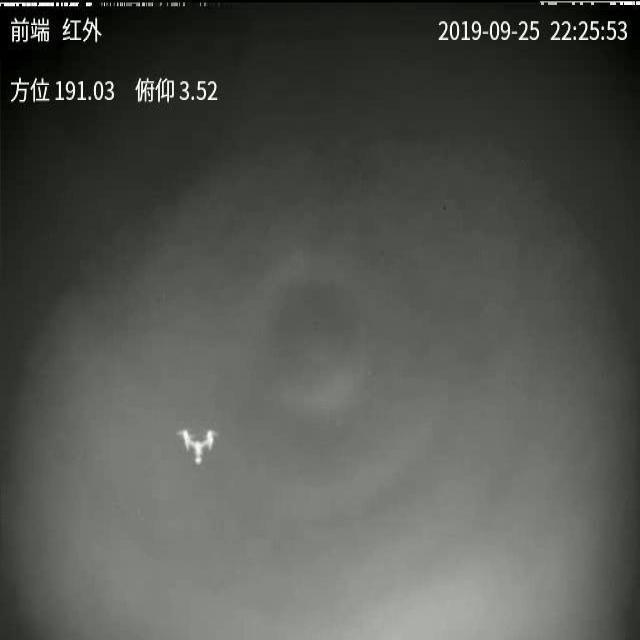drone: (176, 426, 218, 470)
